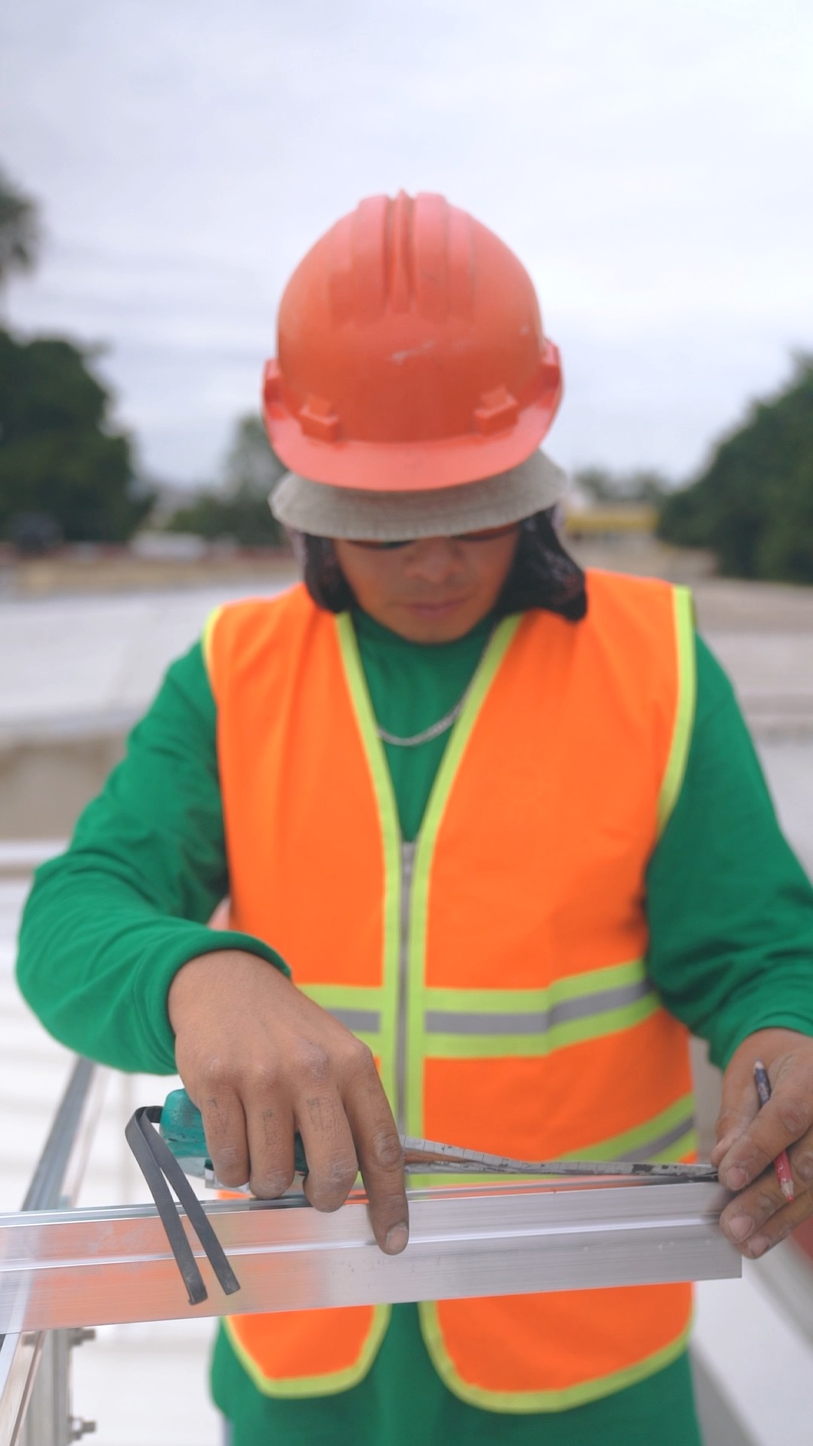No-gloves: (161, 946, 422, 1257), (693, 1027, 813, 1258)
